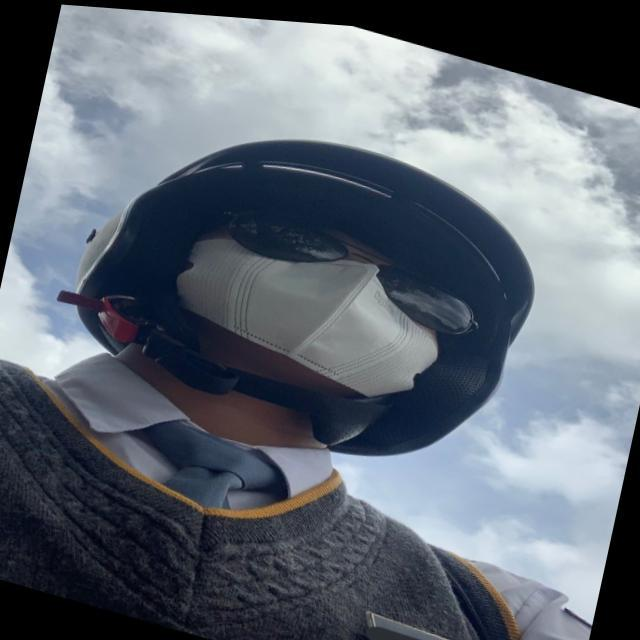Helmet: (61, 116, 550, 464)
